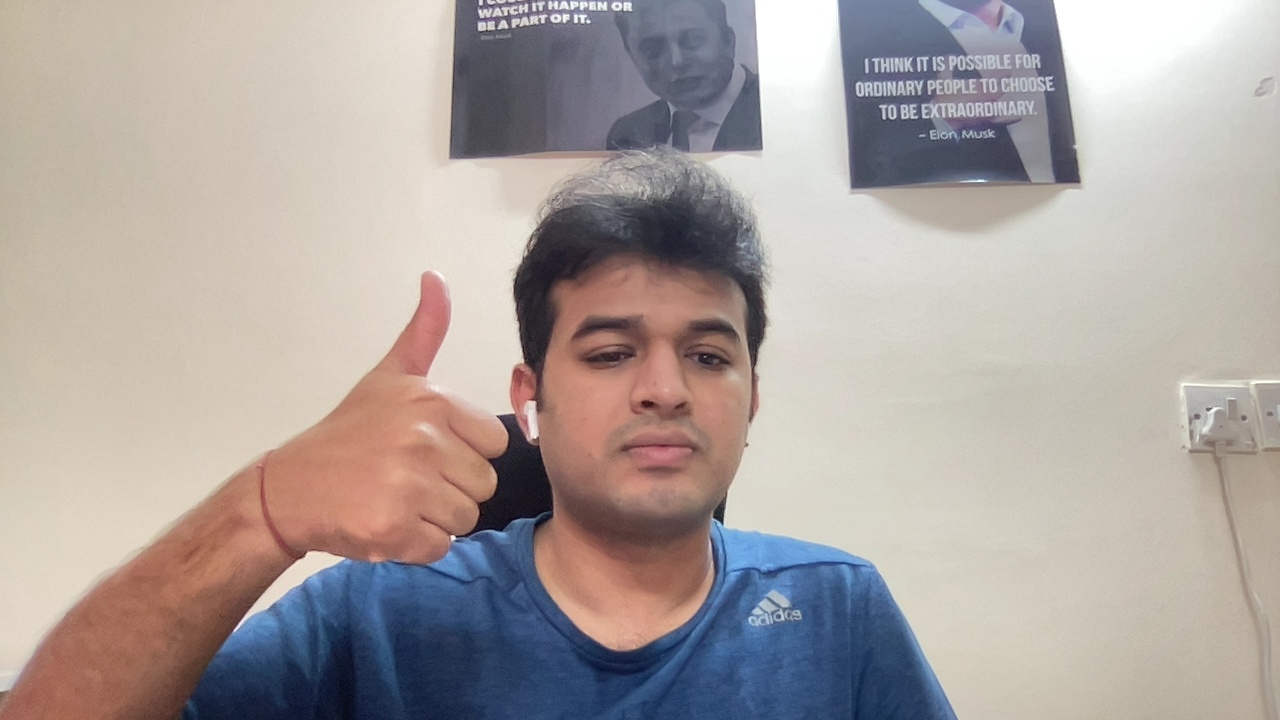up: (349, 253, 512, 580)
